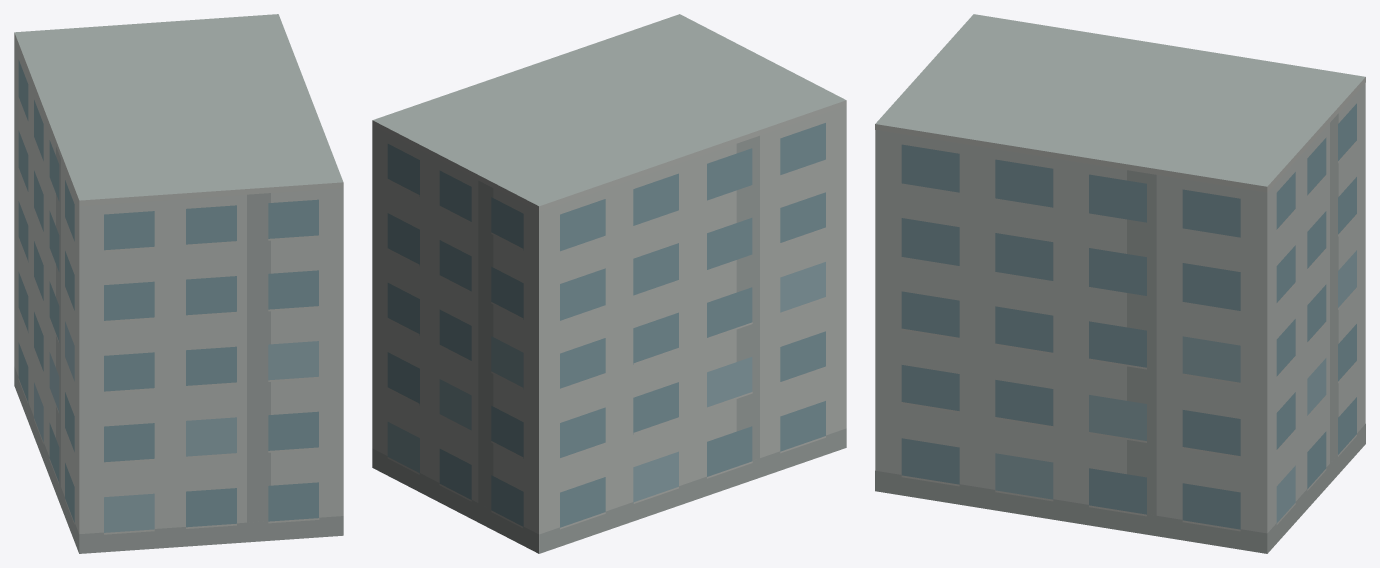
The model's file is residential-015921b2-d0fe-47fc-8d15-456fe3cd7eaa.glb.
3 renders of one model, left to right at view 1: azimuth 30°, elevation 25°; view 2: azimuth 150°, elevation 25°; view 3: azimuth 270°, elevation 25°, orthographic. The views are drawn at different scales.
Parts seen in each view (by area): view 1: residential-015921b2-d0fe-47fc-8d15-456fe3cd7eaa.tmp; view 2: residential-015921b2-d0fe-47fc-8d15-456fe3cd7eaa.tmp; view 3: residential-015921b2-d0fe-47fc-8d15-456fe3cd7eaa.tmp.
Boxes of the visible parts, bbox=[...] form: residential-015921b2-d0fe-47fc-8d15-456fe3cd7eaa.tmp: bbox=[14, 14, 343, 553]; residential-015921b2-d0fe-47fc-8d15-456fe3cd7eaa.tmp: bbox=[372, 14, 846, 553]; residential-015921b2-d0fe-47fc-8d15-456fe3cd7eaa.tmp: bbox=[875, 14, 1365, 553].
Size of the model in its own units: 15.39 by 15.25 by 18.48.
